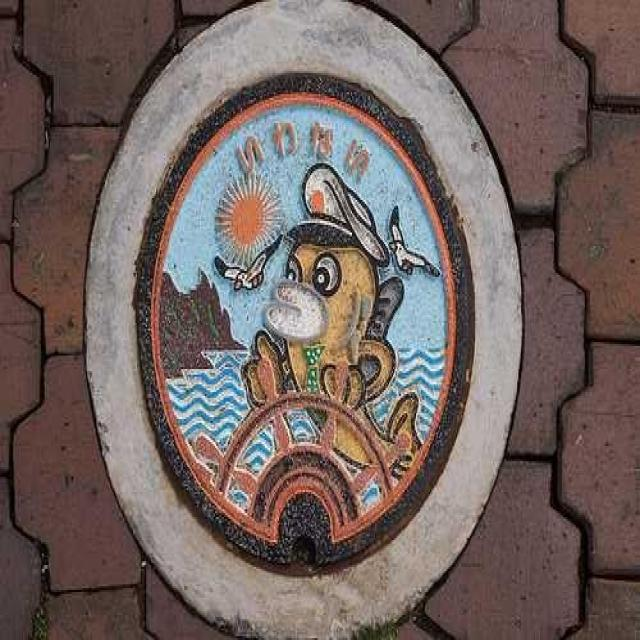manhole: (85, 2, 521, 637)
